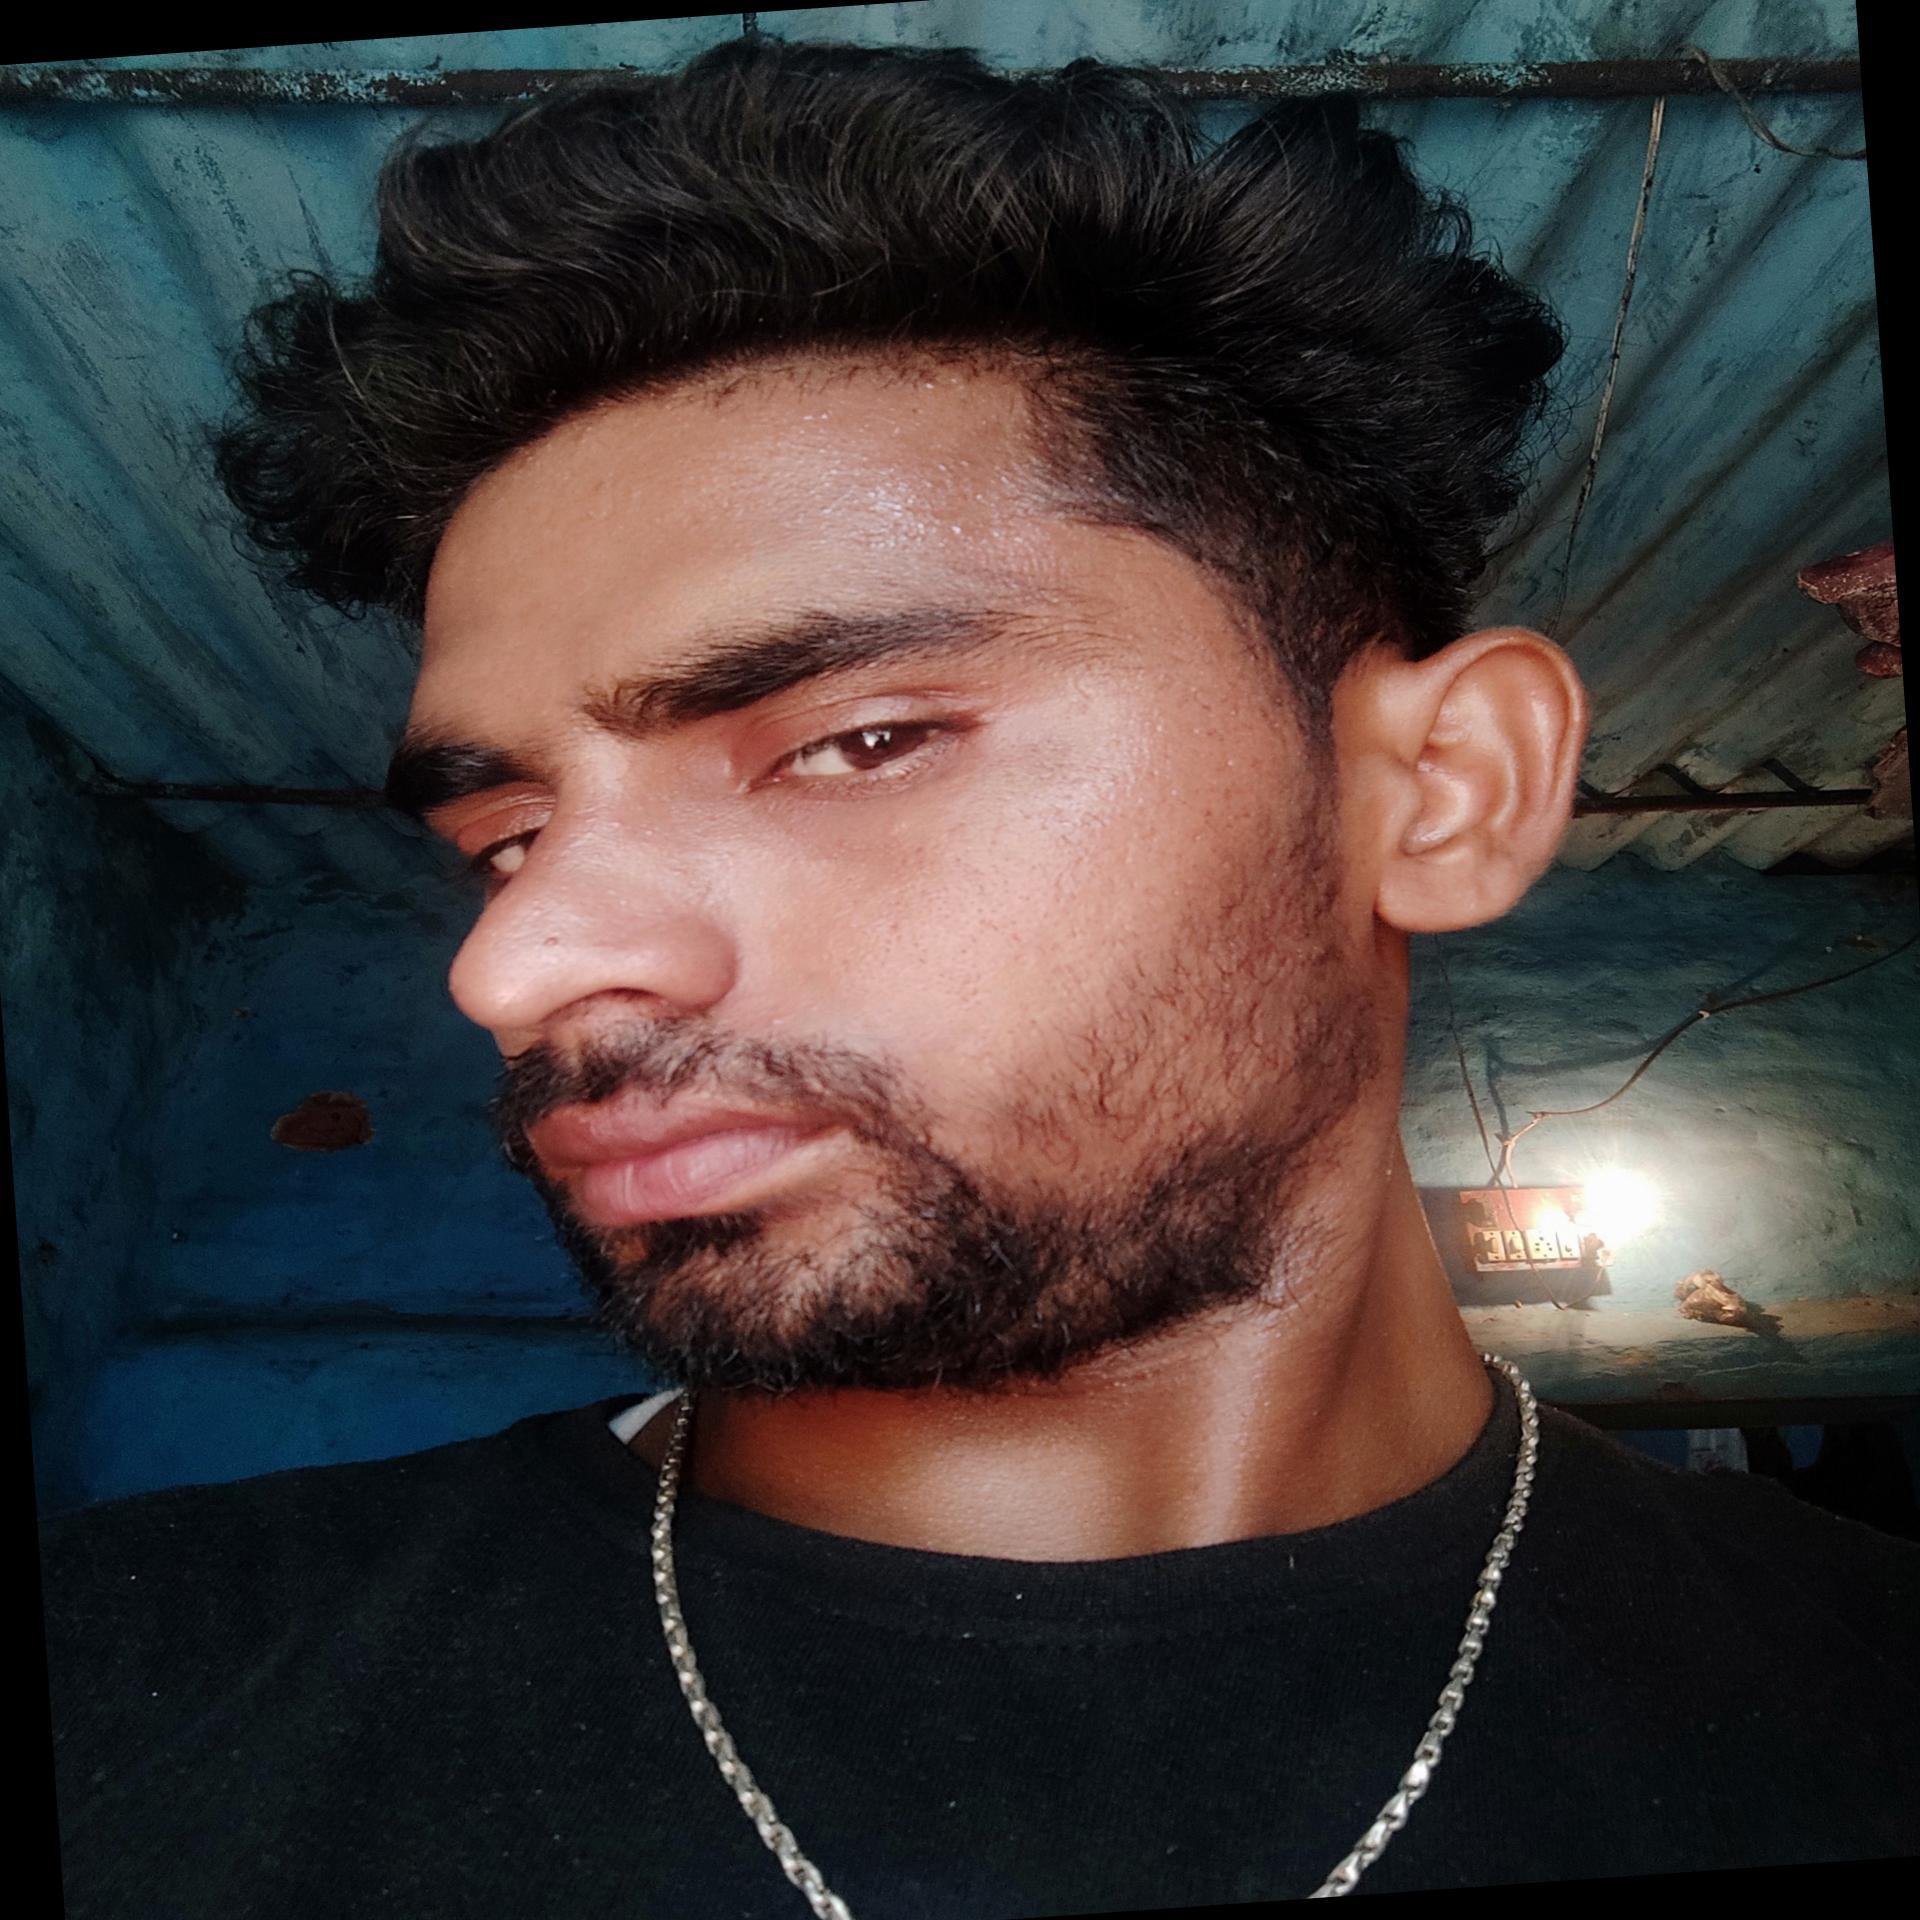Acne: (781, 408, 862, 433), (538, 932, 577, 960), (956, 517, 978, 542)
Englarged Pores: (1169, 921, 1357, 1023), (881, 881, 986, 1013)
